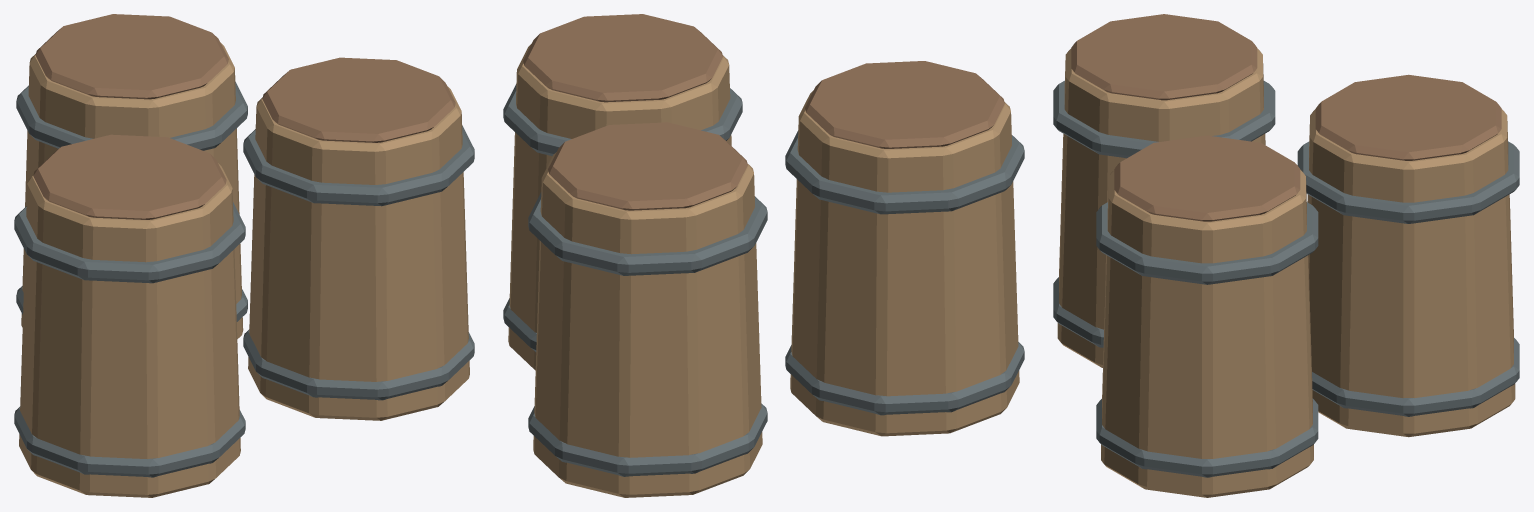
The model's file is barrel_cluster.glb.
3 views of the same model, side by side, from view 1: azimuth 30°, elevation 25°; view 2: azimuth 150°, elevation 25°; view 3: azimuth 270°, elevation 25° (orthographic). The views are drawn at different scales.
Parts seen in each view (by area): view 1: TV_barrel_cluster; view 2: TV_barrel_cluster; view 3: TV_barrel_cluster.
Boxes of the visible parts, <box> form: TV_barrel_cluster: <box>14,14,474,497</box>; TV_barrel_cluster: <box>503,14,1024,497</box>; TV_barrel_cluster: <box>1053,14,1519,497</box>.
Size of the model in its own units: 1.8 by 1.07 by 1.62.
